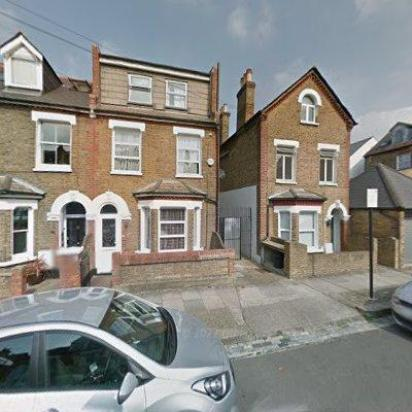stationary-car-onstreet: (0, 285, 238, 411), (389, 264, 411, 348)
